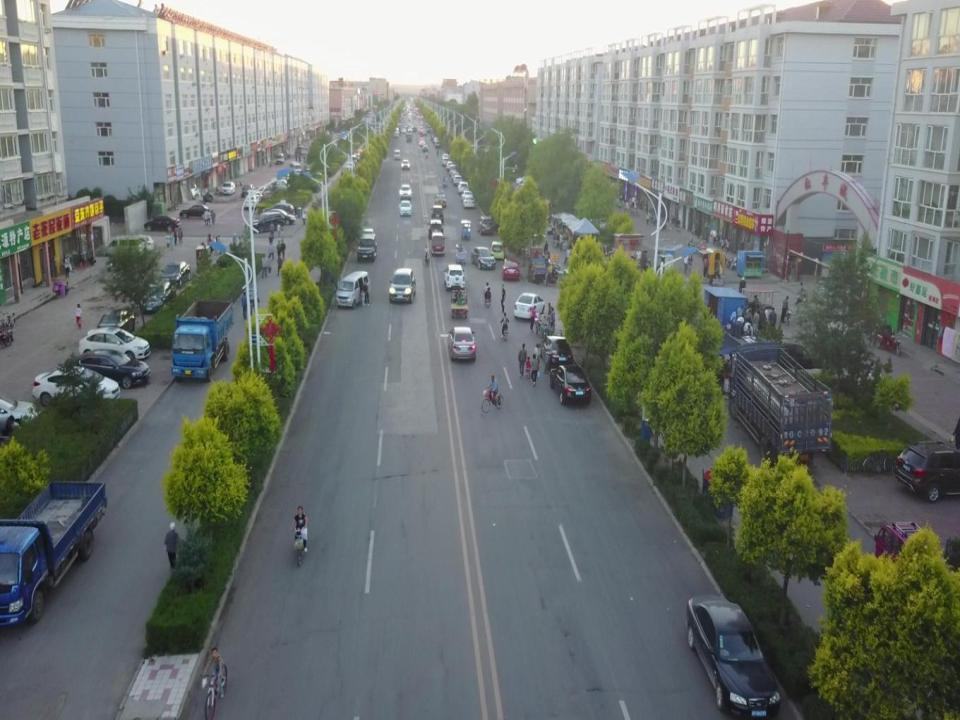car: (1, 475, 106, 627), (686, 595, 782, 719), (170, 298, 234, 380), (896, 441, 960, 501), (31, 365, 121, 407), (62, 349, 150, 389), (76, 326, 150, 362), (548, 365, 592, 406), (0, 394, 37, 439), (540, 335, 578, 370), (446, 326, 477, 362), (138, 280, 175, 310), (388, 267, 416, 302), (96, 308, 135, 333), (245, 211, 284, 232), (156, 261, 191, 282), (143, 214, 182, 232), (258, 207, 296, 225), (264, 198, 296, 218), (470, 246, 495, 270), (443, 263, 465, 290), (356, 234, 377, 262), (500, 256, 520, 279), (179, 206, 215, 218), (476, 215, 496, 236), (427, 219, 445, 237), (360, 228, 375, 244), (490, 241, 504, 258), (243, 196, 259, 210), (399, 200, 412, 217), (434, 191, 447, 207), (795, 291, 808, 306), (399, 184, 411, 200), (431, 204, 443, 220), (220, 181, 234, 194), (462, 196, 475, 208), (462, 188, 474, 200), (453, 174, 464, 186), (458, 182, 469, 193), (457, 181, 468, 192), (400, 160, 409, 169), (452, 170, 461, 179), (446, 160, 455, 168), (449, 165, 457, 171)
truck: (729, 342, 835, 468)
van: (335, 269, 370, 308), (102, 236, 146, 257), (119, 236, 153, 251), (430, 233, 446, 255)
